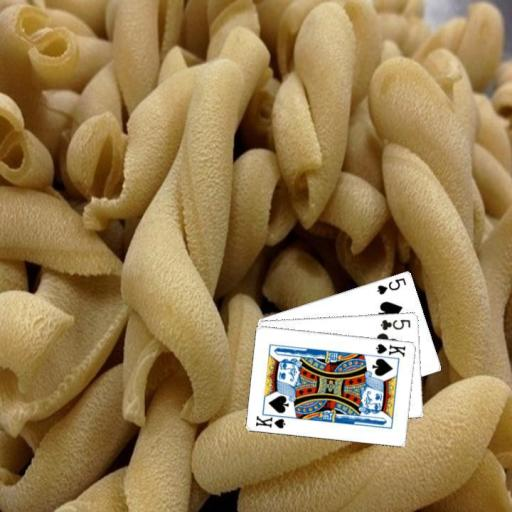5C: (378, 316, 412, 331)
5S: (374, 274, 408, 296)
KS: (253, 410, 291, 430), (373, 340, 408, 358)
